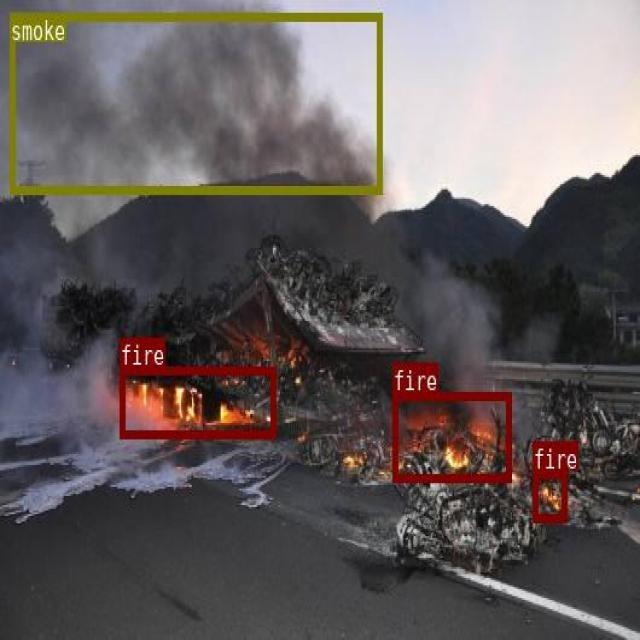fire: (119, 365, 275, 437), (392, 391, 510, 481), (532, 469, 566, 521)
smoke: (10, 12, 382, 192)
